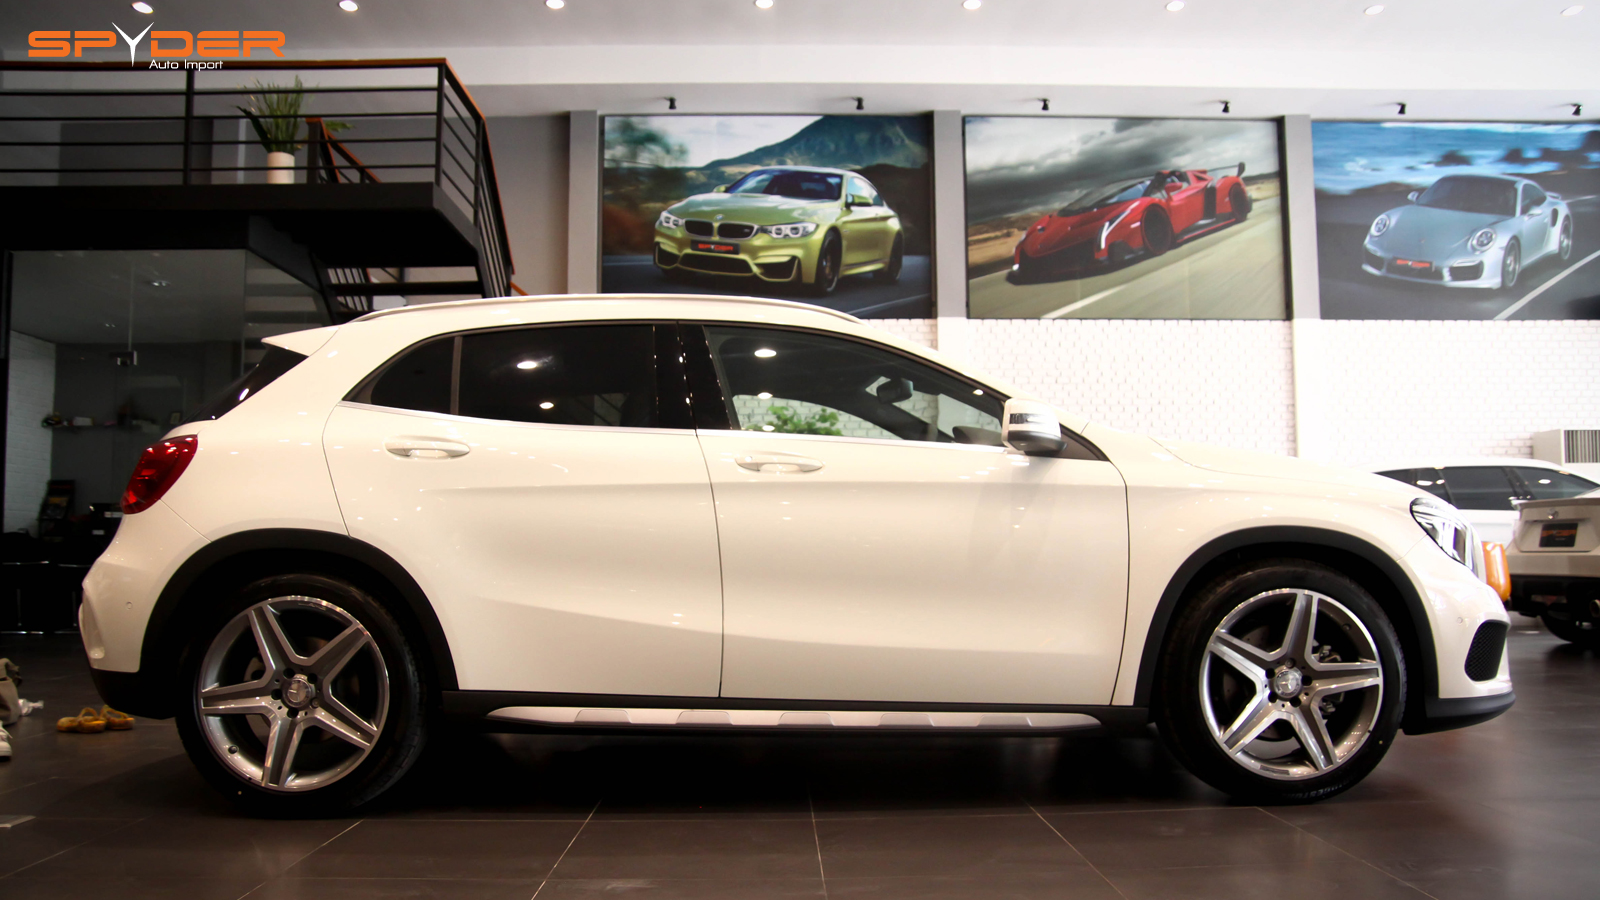pickup: (77, 289, 1526, 810)
